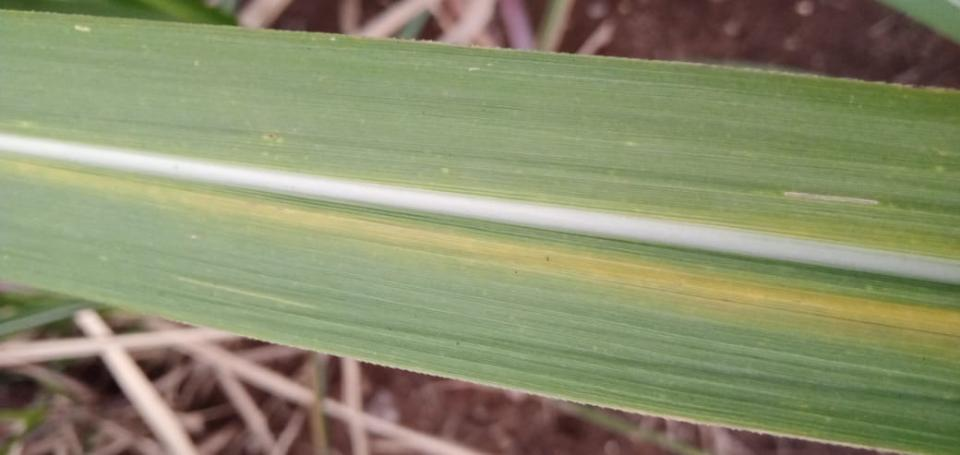Yellow: (0, 154, 959, 351), (636, 212, 959, 259)
